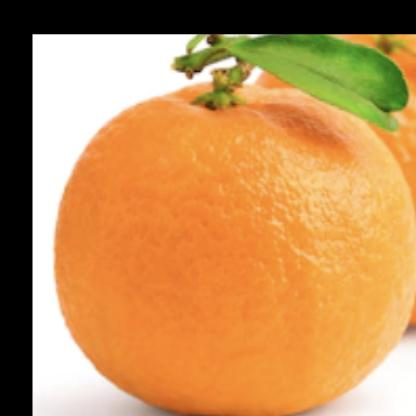fresh: (53, 76, 416, 416)
